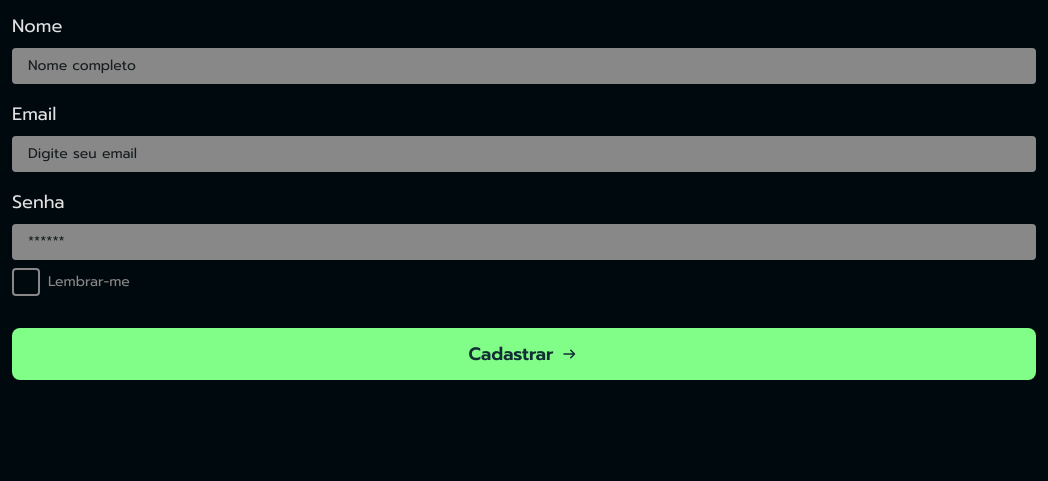
Test case: SignUpForm › shows errors and does not submit when fields are empty
Click the button "Cadastrar" at [524, 354], box [12,328,1036,380]
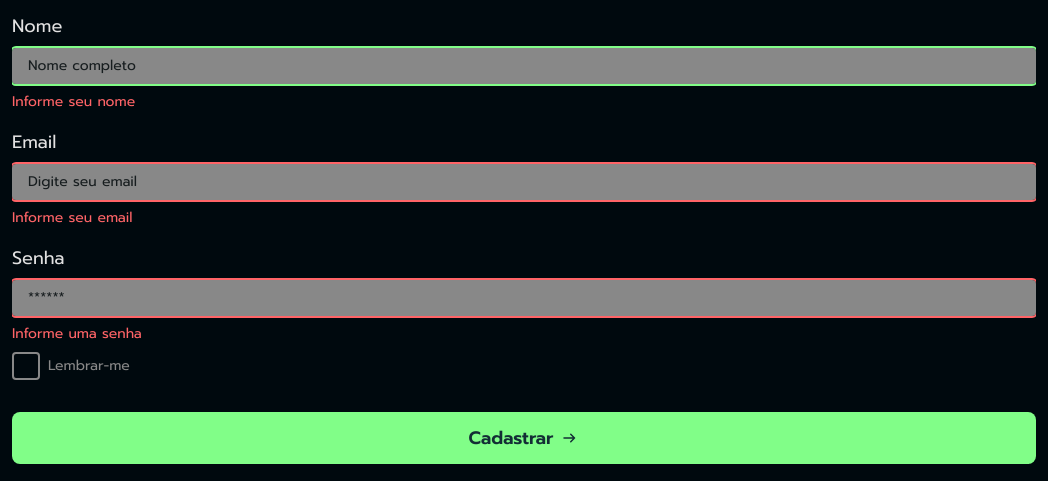
Expected: the text "Informe seu nome" is shown, [12,91,135,112]
Expected: the text "Informe seu email" is shown, [12,207,132,228]
Expected: the text "Informe uma senha" is shown, [12,323,142,344]
